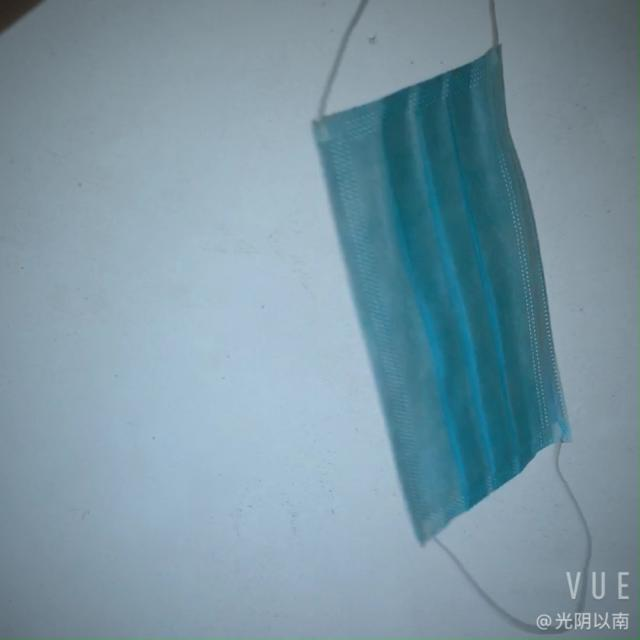non-organic waste: (328, 64, 576, 544)
